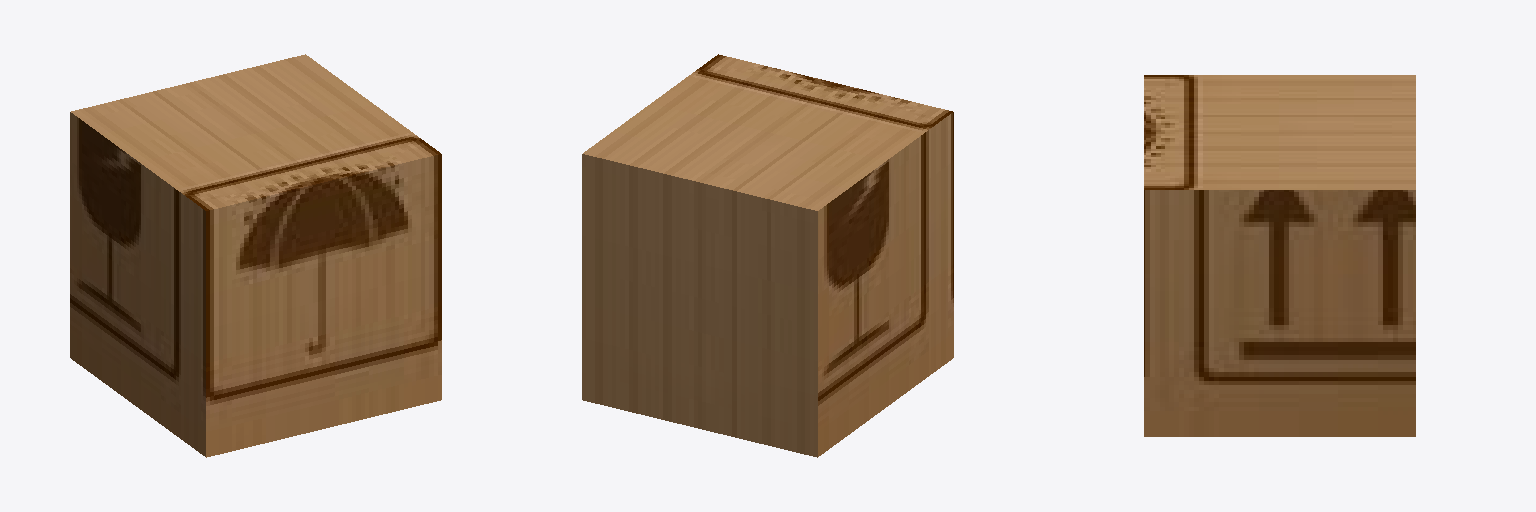
3 renders of one model, left to right at view 1: azimuth 30°, elevation 25°; view 2: azimuth 150°, elevation 25°; view 3: azimuth 270°, elevation 25°, orthographic.
Visible parts, largest first — view 1: pCube1; view 2: pCube1; view 3: pCube1.
Part boxes in pixels (bbox=[...]): pCube1: bbox=[70, 54, 441, 457]; pCube1: bbox=[582, 54, 953, 457]; pCube1: bbox=[1144, 75, 1415, 436].
Size of the model in its own units: 5 by 5 by 5.
1 materials, 1 textured.